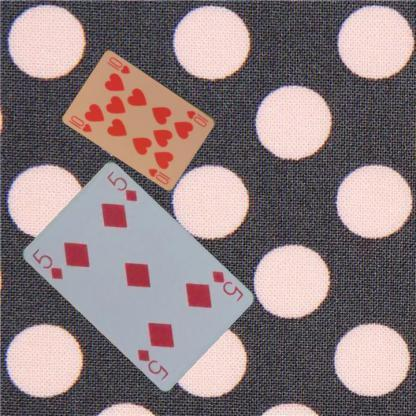10h: (68, 112, 94, 134), (184, 107, 210, 128)
5d: (29, 245, 64, 280), (209, 268, 244, 302)
